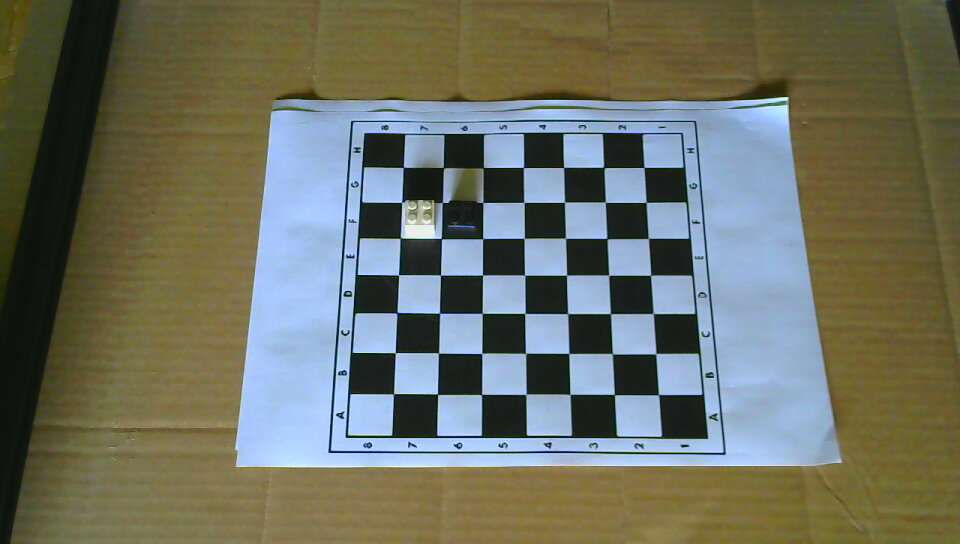bp: (443, 198, 479, 243)
wp: (402, 198, 438, 240)
